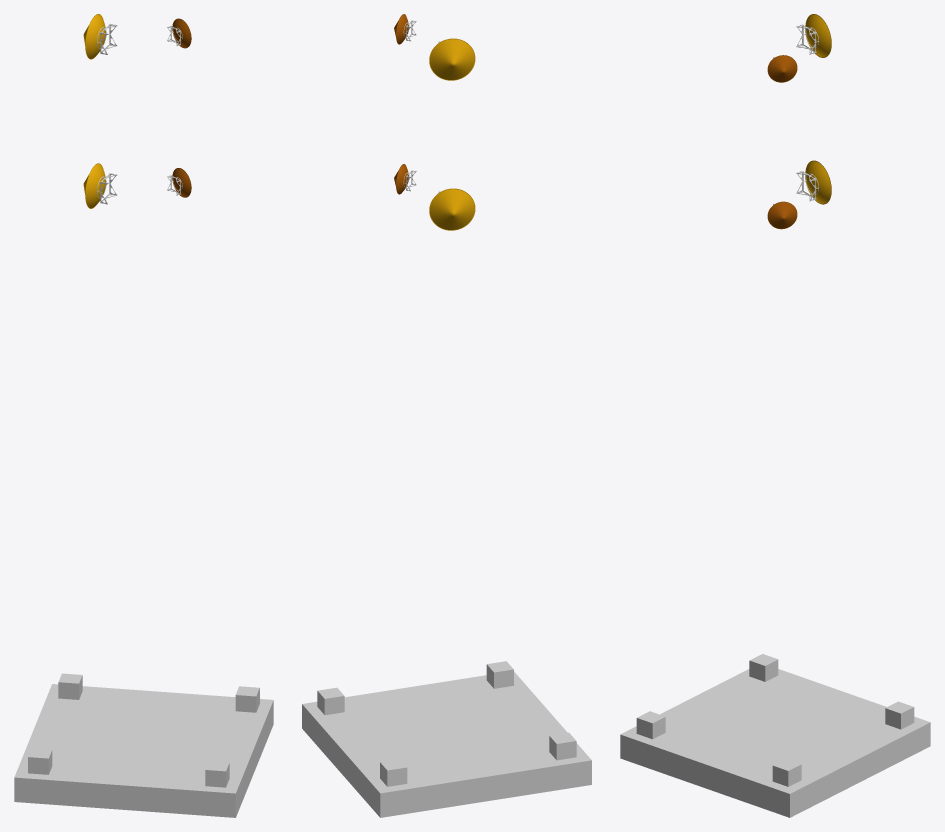
Rendered from ang漢那ダム.glb.
The picture shows the model from 3 angles, left to right: view 1: azimuth 30°, elevation 25°; view 2: azimuth 150°, elevation 25°; view 3: azimuth 270°, elevation 25°; orthographic projection. The views are drawn at different scales.
Visible parts, largest first — view 1: group_15, group_89.012, group_89.008, group_14.001, group_14, group_14.003, group_14.002; view 2: group_15, group_89.008, group_89.012, group_14.001, group_14, group_14.002, group_14.003; view 3: group_15, group_89.012, group_89.008, group_14.001, group_14.003, group_14, group_14.002, group_89, group_89.004.
Boxes of the visible parts, x1,y1,x2,y2 form: group_15: [14, 684, 273, 817]; group_89.012: [83, 14, 105, 58]; group_89.008: [83, 164, 105, 208]; group_14.001: [28, 748, 52, 774]; group_14: [235, 686, 259, 712]; group_14.003: [205, 761, 229, 787]; group_14.002: [58, 673, 82, 699]; group_15: [302, 671, 591, 817]; group_89.008: [430, 189, 474, 229]; group_89.012: [430, 39, 474, 79]; group_14.001: [549, 732, 576, 760]; group_14: [317, 687, 344, 715]; group_14.002: [380, 759, 407, 786]; group_14.003: [486, 661, 513, 688]; group_15: [620, 669, 930, 817]; group_89.012: [805, 14, 831, 57]; group_89.008: [805, 161, 831, 203]; group_14.001: [749, 654, 778, 681]; group_14.003: [636, 711, 665, 739]; group_14: [772, 759, 801, 786]; group_14.002: [885, 701, 914, 729]; group_89: [768, 55, 796, 82]; group_89.004: [768, 202, 796, 228].
Bounding box in the file's own units: 21.12 × 54.34 × 21.12.
